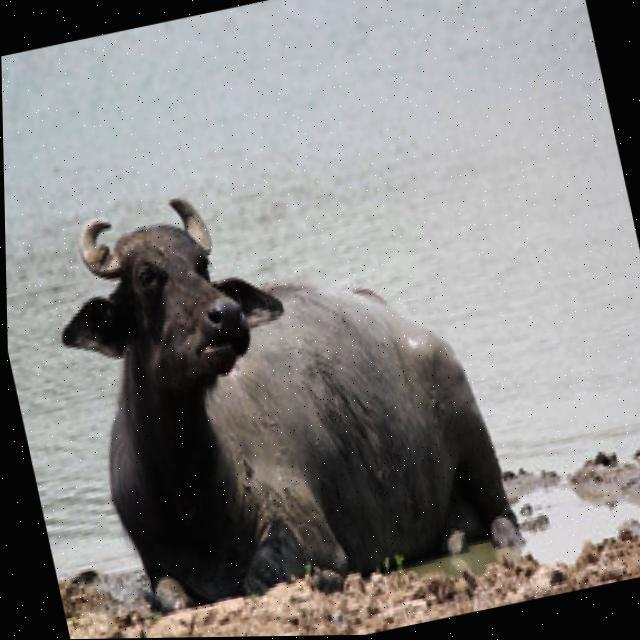Buffalo: (30, 133, 531, 636)
